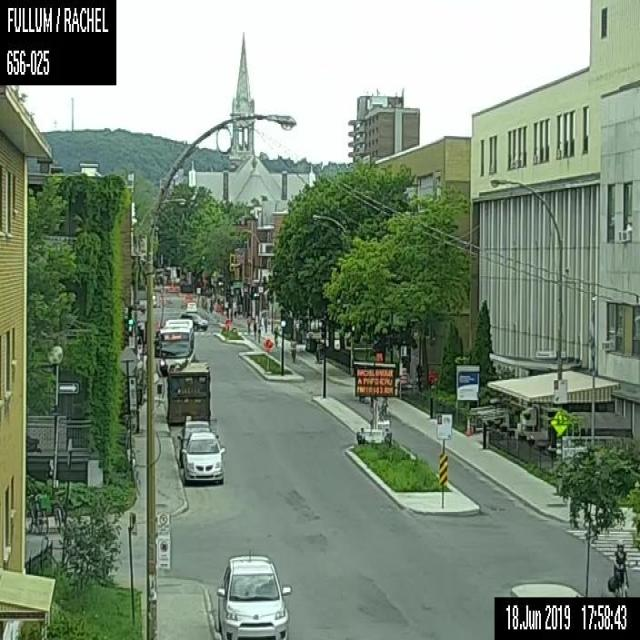bus: (154, 318, 193, 375)
construction: (354, 360, 395, 446), (263, 338, 272, 350), (400, 366, 406, 383), (224, 317, 229, 324)
cyclist: (289, 339, 296, 362), (273, 327, 277, 350), (252, 319, 256, 342), (246, 315, 251, 333), (257, 325, 260, 342)
pedestrian: (606, 540, 629, 596)
vehicle: (216, 553, 292, 639), (180, 431, 224, 484), (176, 419, 218, 466), (180, 312, 208, 331), (185, 301, 197, 312)
